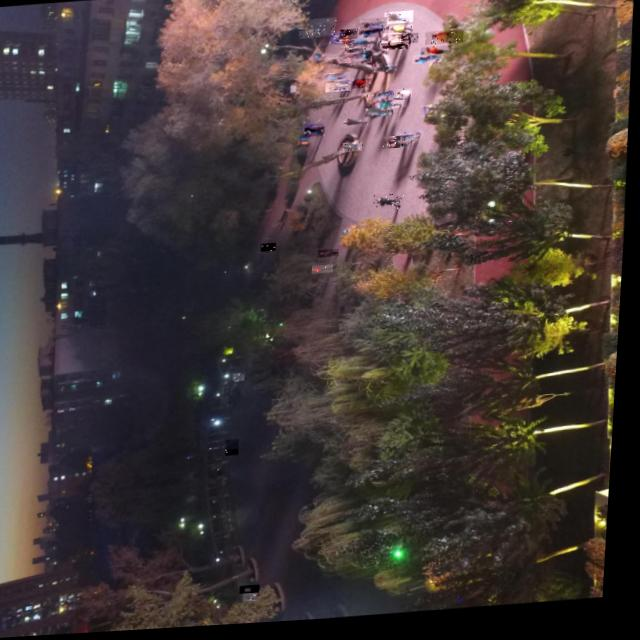Person: (425, 33, 464, 49), (376, 197, 407, 214), (356, 20, 387, 34), (384, 14, 413, 28), (388, 36, 419, 49), (421, 49, 452, 60), (349, 54, 375, 67), (348, 40, 376, 52), (341, 120, 371, 131), (376, 103, 409, 113), (413, 57, 442, 68), (369, 95, 395, 107), (385, 139, 408, 152), (309, 20, 336, 31), (339, 56, 367, 66), (389, 28, 413, 39), (366, 110, 392, 120), (326, 85, 352, 95), (379, 36, 402, 47), (325, 75, 353, 84), (391, 135, 418, 144), (381, 45, 408, 54), (359, 32, 383, 42), (362, 51, 382, 63), (340, 38, 364, 48), (311, 29, 335, 39), (373, 67, 398, 76), (346, 47, 370, 56), (353, 80, 372, 91), (315, 267, 338, 276), (306, 129, 326, 139), (345, 145, 365, 155), (340, 32, 358, 43), (299, 32, 321, 41), (370, 52, 389, 62), (247, 587, 267, 596), (320, 252, 341, 260), (397, 92, 414, 101), (250, 594, 265, 604), (264, 245, 279, 254), (231, 441, 244, 451), (359, 58, 376, 65), (231, 448, 244, 457), (237, 375, 249, 383), (217, 466, 228, 472), (219, 471, 229, 477)
